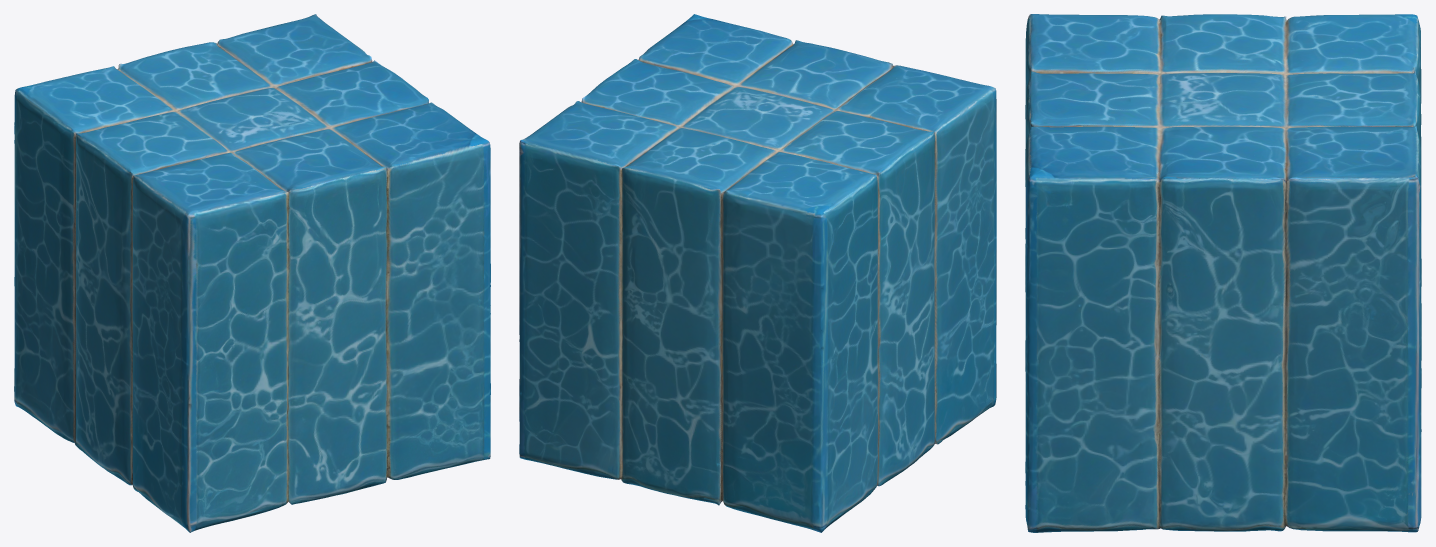
File: Meshy_AI_a_water_tile_at_a_goo_1115233210_texture.glb
The picture shows the model from 3 angles, left to right: view 1: azimuth 30°, elevation 25°; view 2: azimuth 150°, elevation 25°; view 3: azimuth 270°, elevation 25°; orthographic projection. The views are drawn at different scales.
Size of the model in its own units: 2 by 2 by 2.
1 material, 1 textured.
